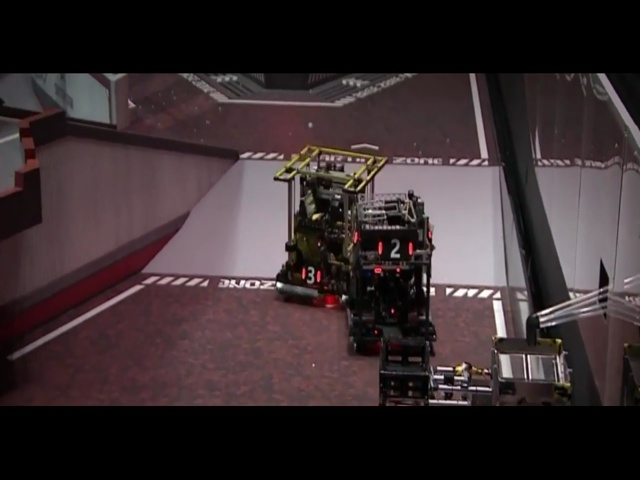plate: (274, 289, 312, 315), (323, 298, 341, 332), (224, 262, 250, 284), (230, 193, 260, 212), (315, 210, 335, 232), (194, 264, 211, 284), (353, 192, 371, 208), (340, 207, 353, 229)
